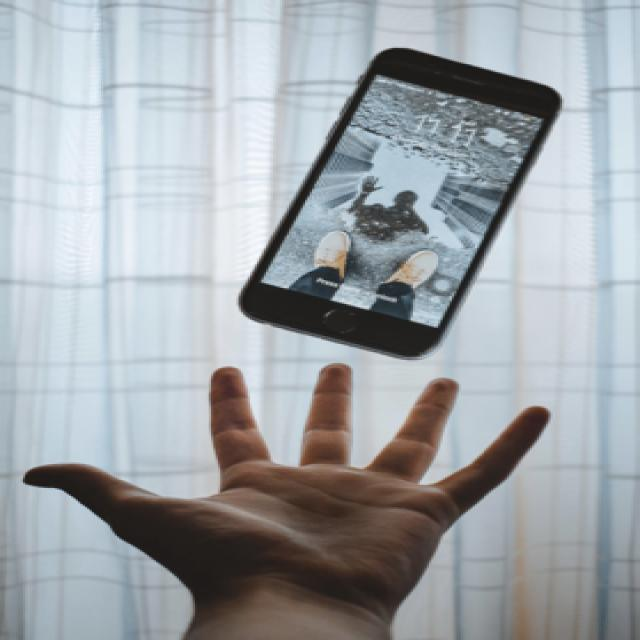cellphone: (236, 45, 562, 360)
